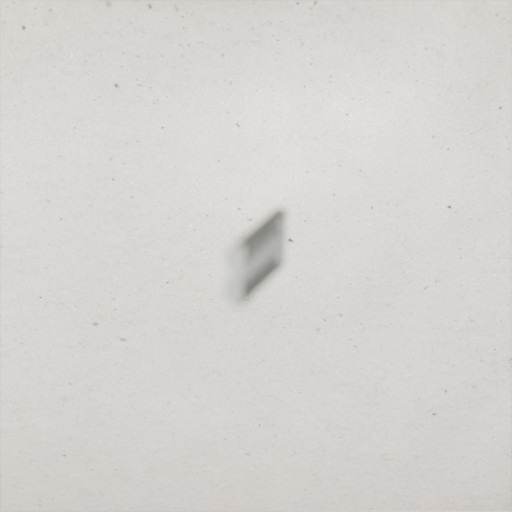lego: (224, 208, 287, 309)
